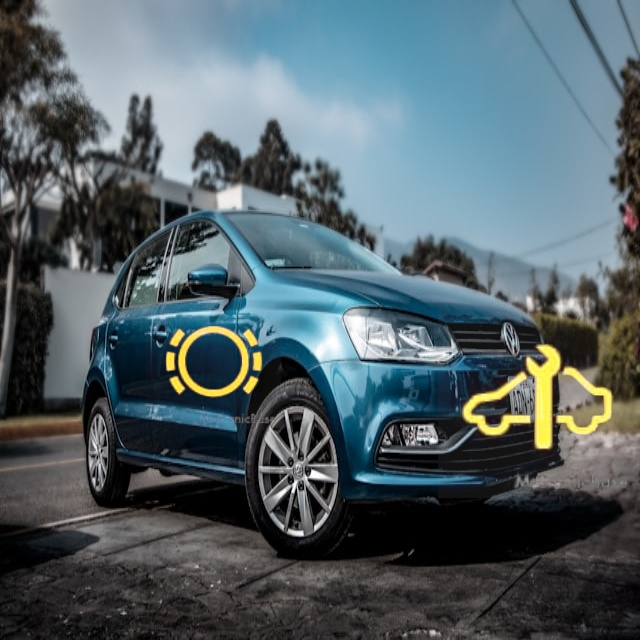symbol: (438, 301, 635, 498), (146, 295, 281, 430)
